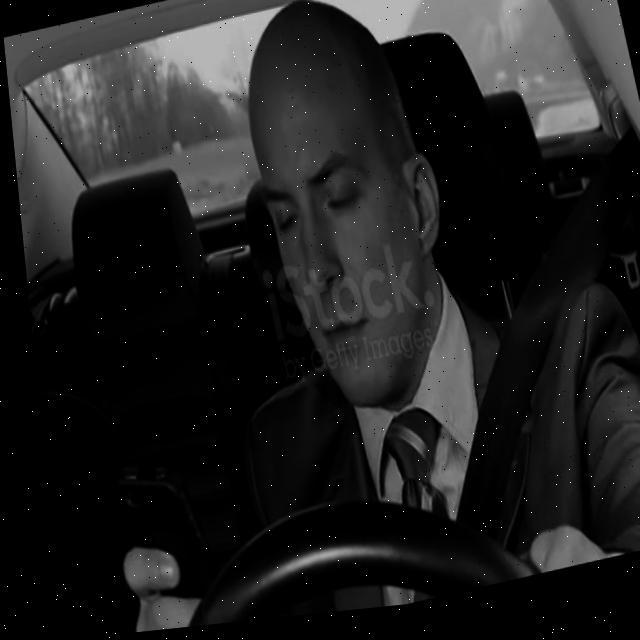PhoneCall: (100, 456, 210, 622)
